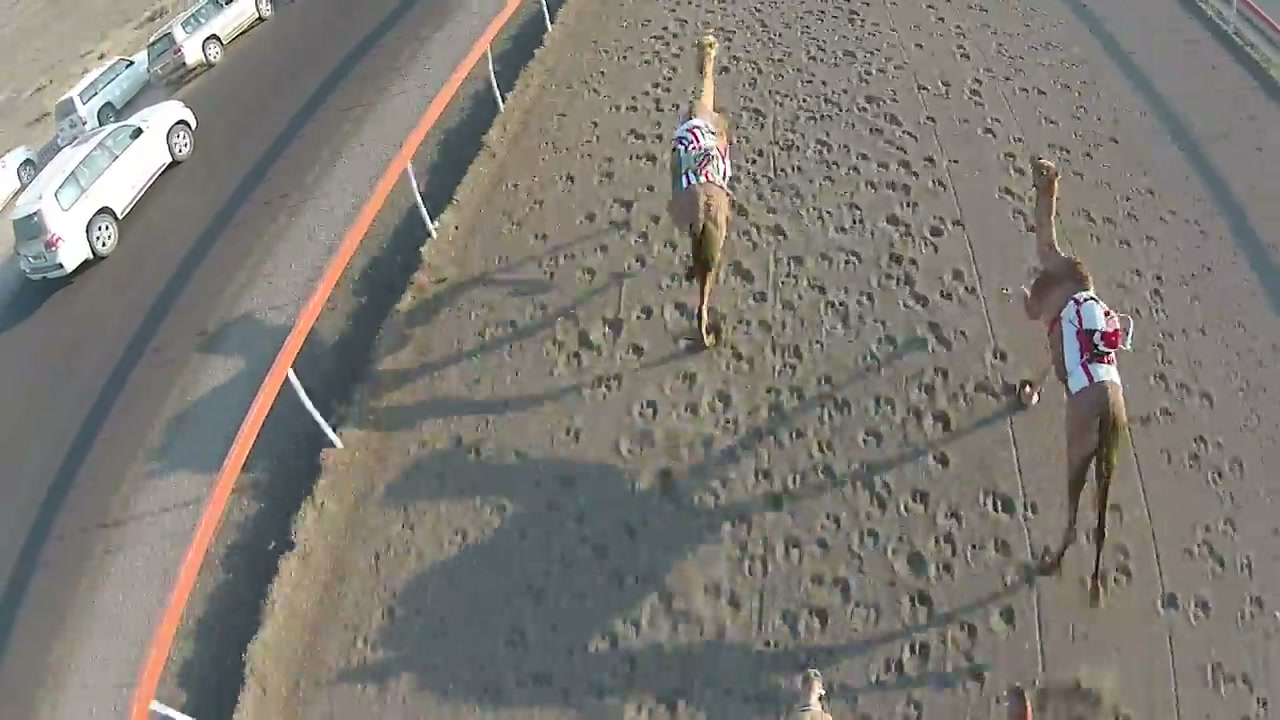animal_footprint: (742, 40, 1042, 689), (491, 22, 766, 418)
